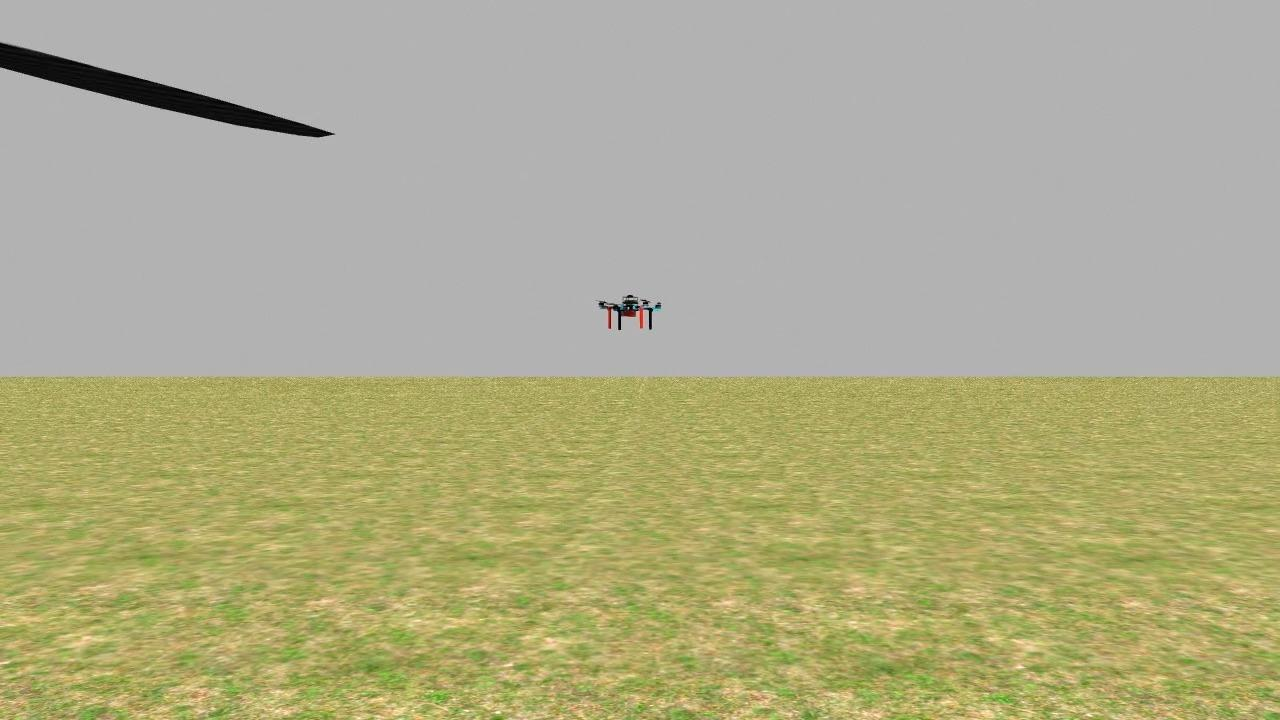UAV: (588, 286, 671, 338)
